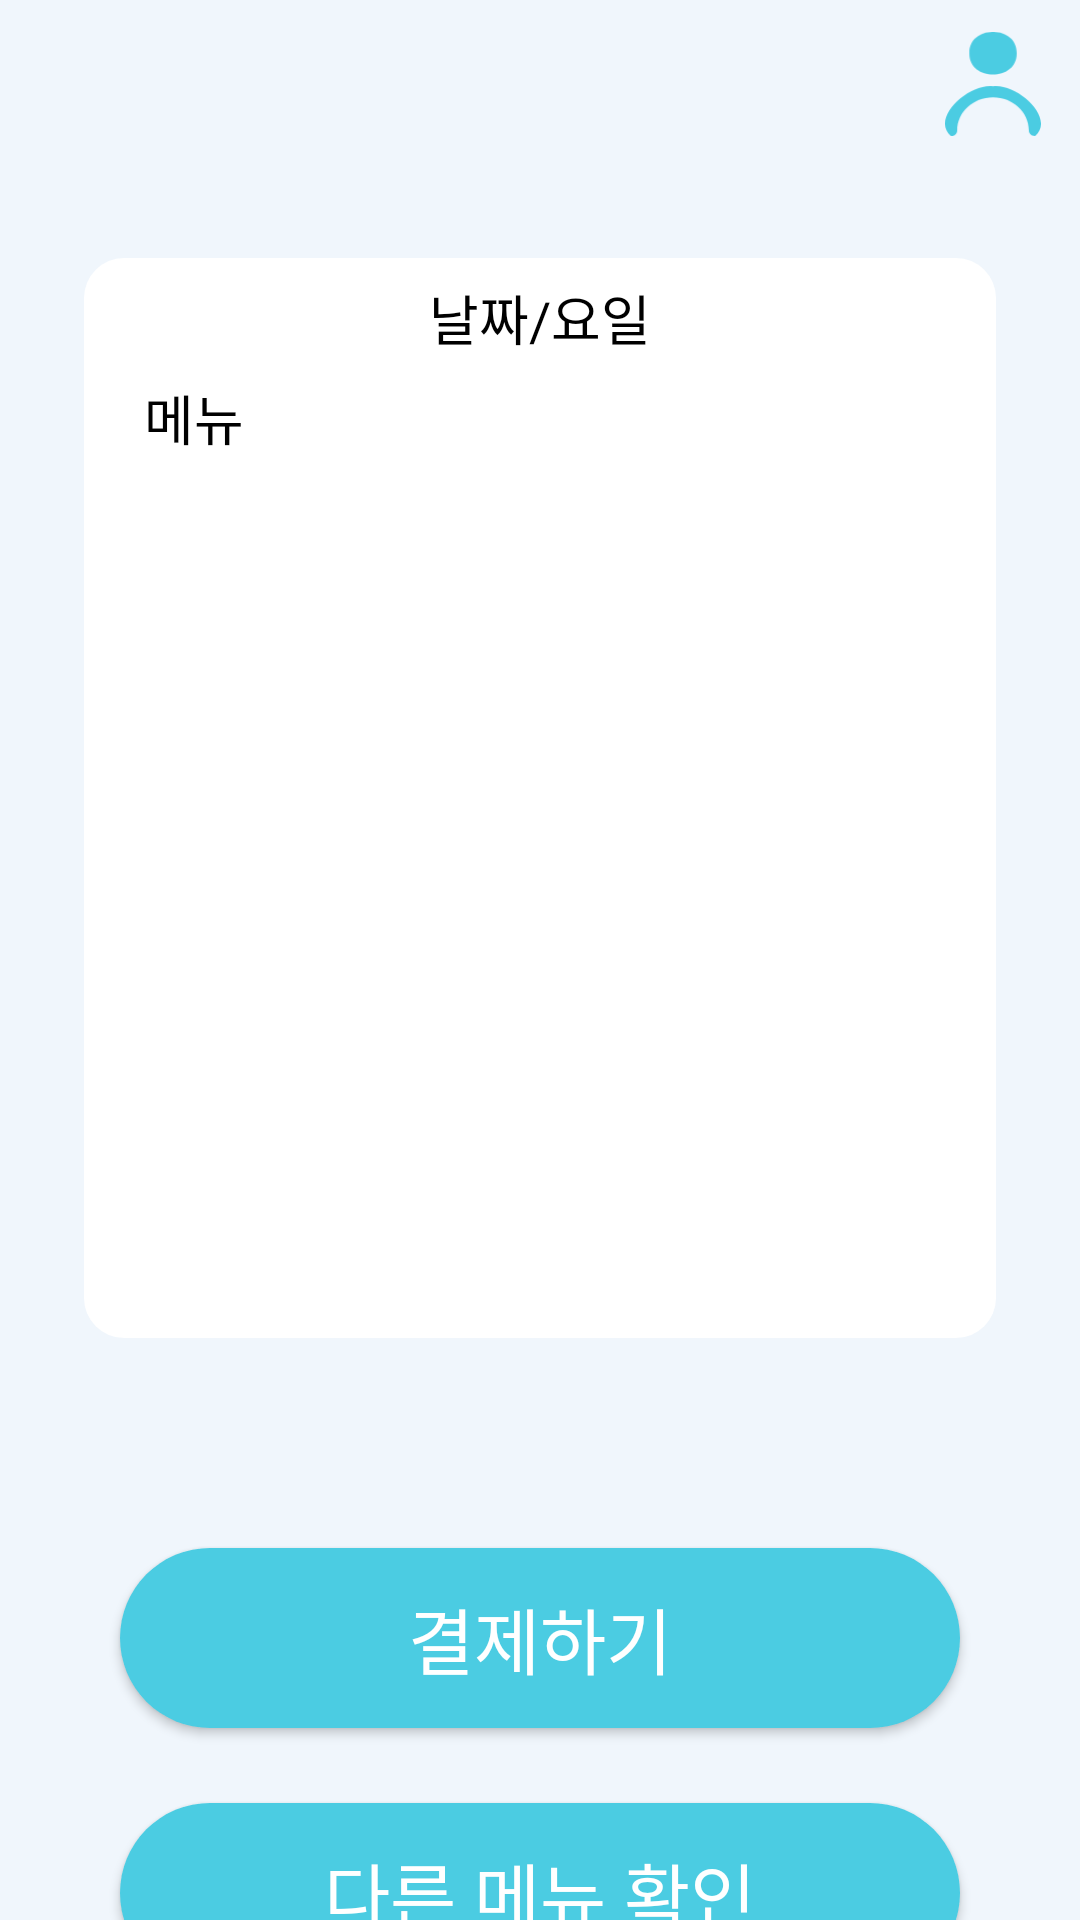

Icons on this 1080x1920 Android screen, each with the point to tap as point (x, y):
mypage: point (993, 84)
